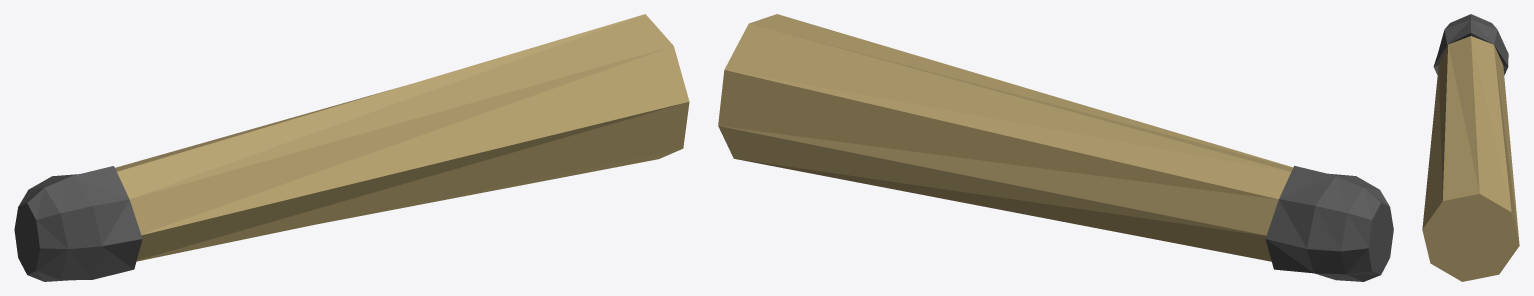
File: HazmatSuitArm.fbx
3 views of the same model, side by side, from view 1: azimuth 30°, elevation 25°; view 2: azimuth 150°, elevation 25°; view 3: azimuth 270°, elevation 25° (orthographic). The views are drawn at different scales.
Parts seen in each view (by area): view 1: HazmatSuitArm; view 2: HazmatSuitArm; view 3: HazmatSuitArm.
Boxes of the visible parts, x1,y1,x2,y2 form: HazmatSuitArm: [14, 14, 689, 281]; HazmatSuitArm: [718, 14, 1393, 281]; HazmatSuitArm: [1422, 14, 1519, 281].
Bounding box in the file's own units: 0.2077 × 1 × 0.2077.
